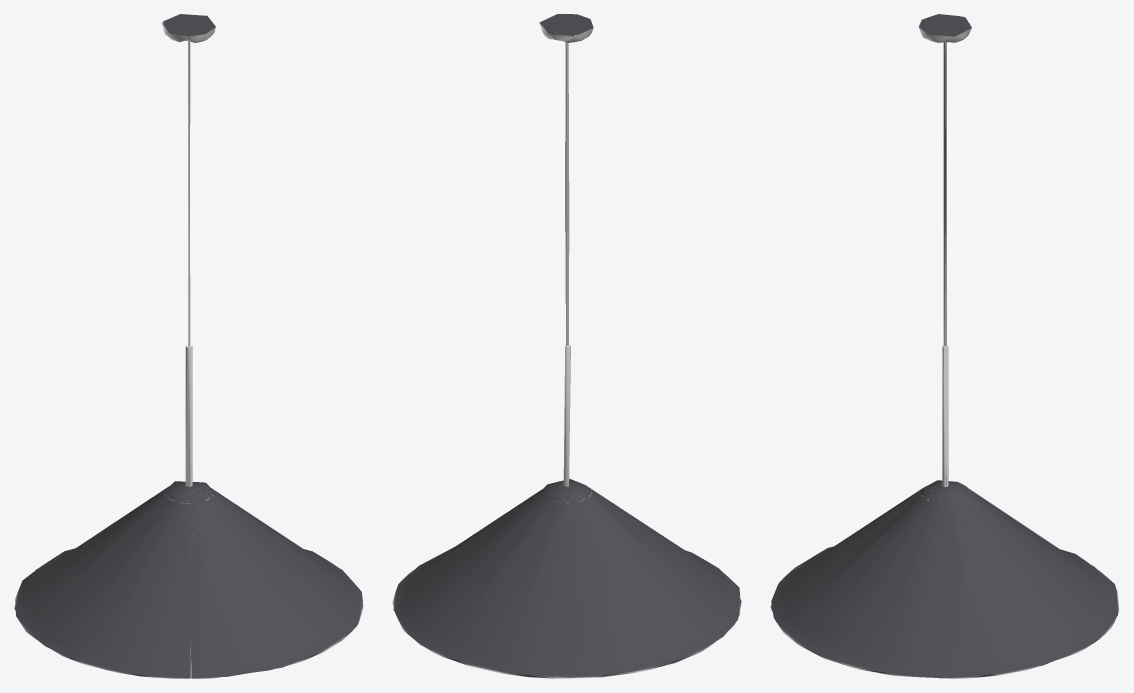
Rendered from LightTop0014.obj.
3 views of the same model, side by side, from view 1: azimuth 30°, elevation 25°; view 2: azimuth 150°, elevation 25°; view 3: azimuth 270°, elevation 25° (orthographic).
Size of the model in its own units: 0.443 by 0.84 by 0.445.
Materials: 1 (1 with a texture image).
